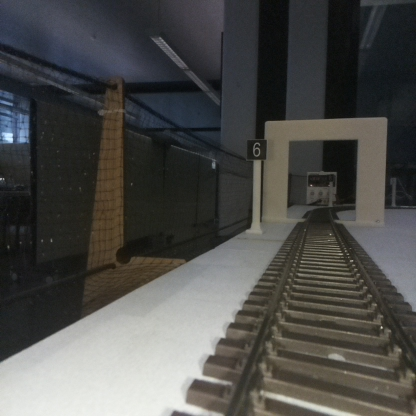black-info-6: (247, 140, 266, 232)
